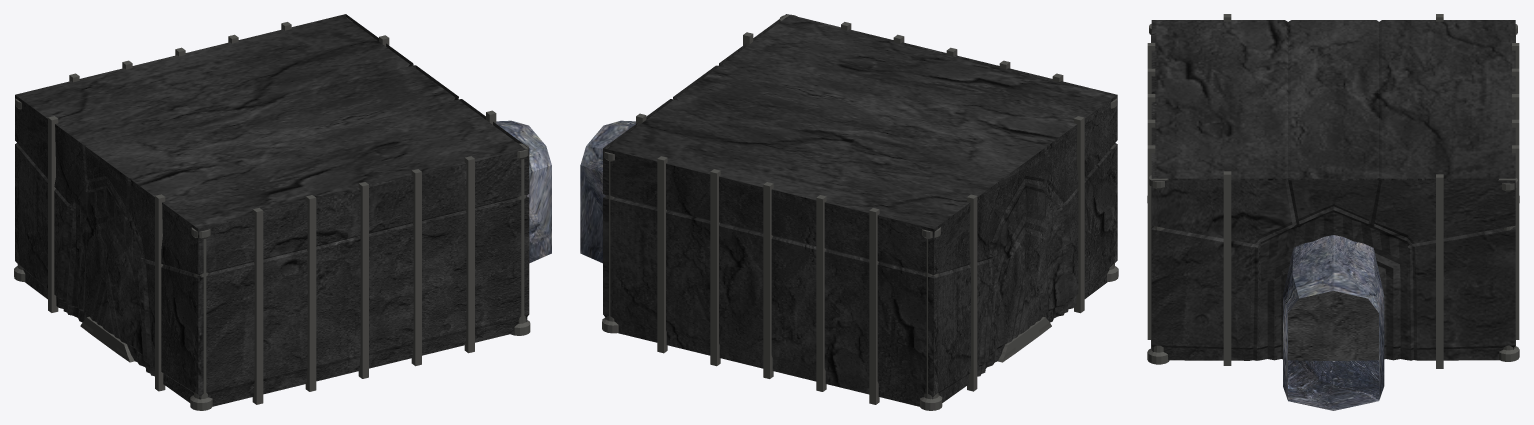
Rendered from backstage.fbx.
3 views of the same model, side by side, from view 1: azimuth 30°, elevation 25°; view 2: azimuth 150°, elevation 25°; view 3: azimuth 270°, elevation 25° (orthographic).
Parts seen in each view (by area): view 1: Cube; view 2: Cube; view 3: Cube.
Part boxes in pixels (x1,y1,x2,y2): Cube: [14, 14, 551, 410]; Cube: [580, 14, 1118, 410]; Cube: [1147, 14, 1519, 410].
Bounding box in the file's own units: 65.9 × 28.27 × 49.04.
